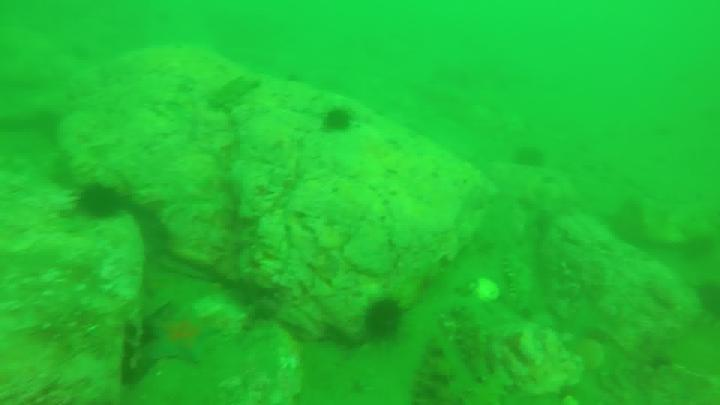echinus: (73, 178, 124, 218), (366, 302, 403, 345), (316, 108, 355, 136), (516, 148, 550, 170)
holothurian: (410, 342, 459, 405), (453, 309, 492, 380), (503, 256, 536, 318), (204, 75, 261, 109)
scallop: (478, 275, 501, 306)
starfish: (151, 301, 223, 367)
